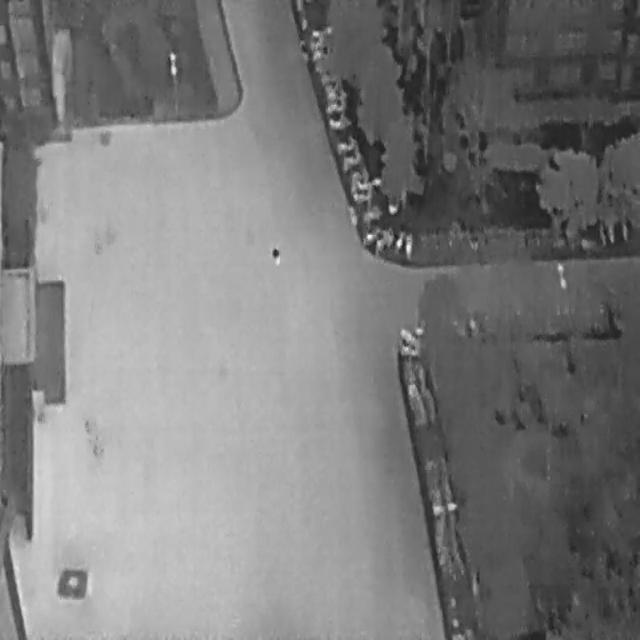Bicycle: (371, 226, 395, 256), (340, 148, 364, 174), (360, 222, 383, 248), (332, 134, 358, 155), (329, 115, 350, 126), (325, 100, 345, 111), (405, 232, 412, 258), (396, 226, 404, 248)
DontCare: (300, 23, 344, 95)
Person: (271, 242, 280, 264)
